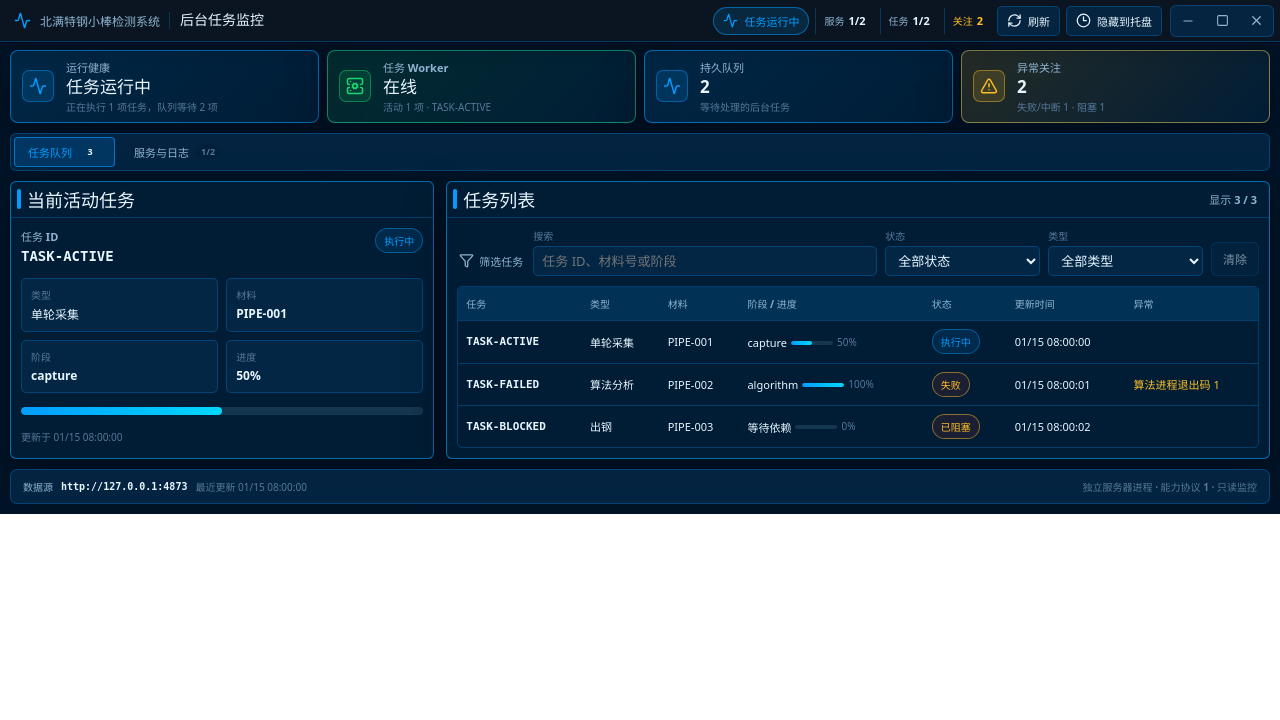
Scenario: BackgroundMonitorApp › renders live task status by default and keeps service controls in a dedicated view
Expected: the heading "后台任务监控" is shown, [169,12,264,29]
Expected: the text "服务 1/2" is shown, [815,8,874,34]
Select "失败" in the dropdown named "任务状态过滤" at (963, 260), box [885,246,1040,276]
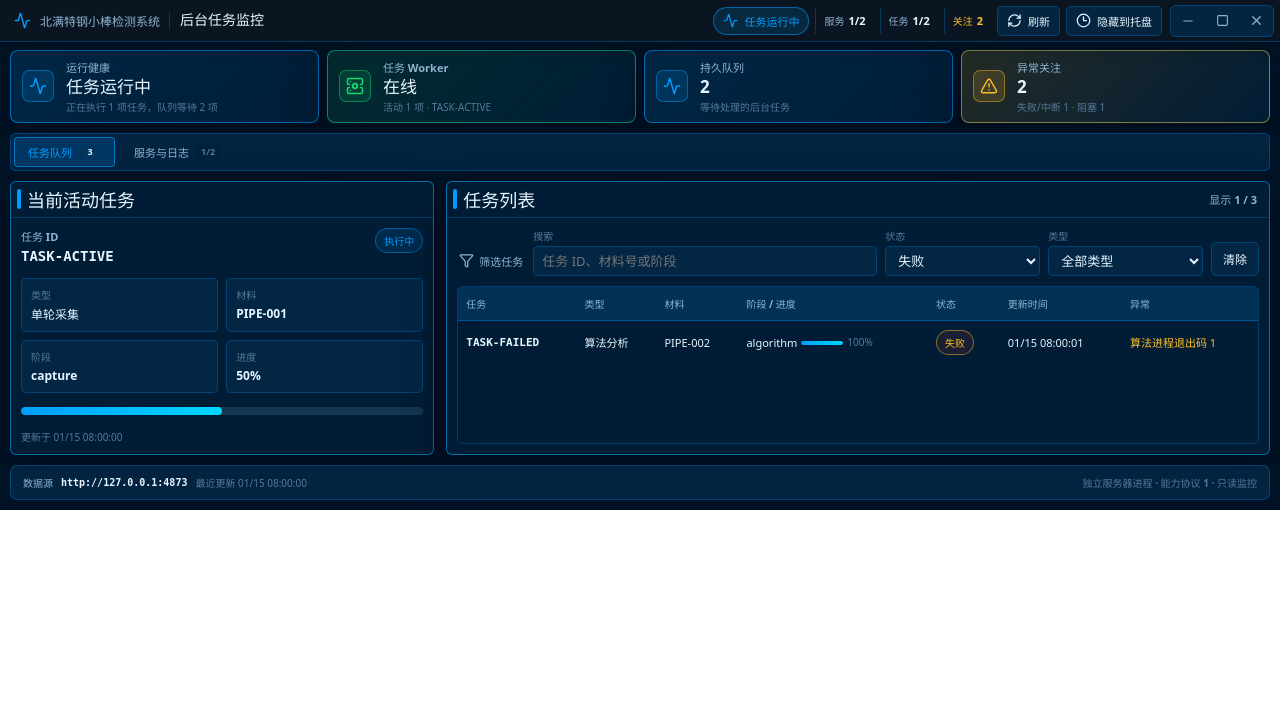
Expected: the table with test id "background-monitor-task-table" shows "TASK-FAILED", [466,336,539,348]
Now the row with test id "background-monitor-task-TASK-ACTIVE" is gone
Click the button "清除" at (1235, 258), box [1211,242,1259,276]
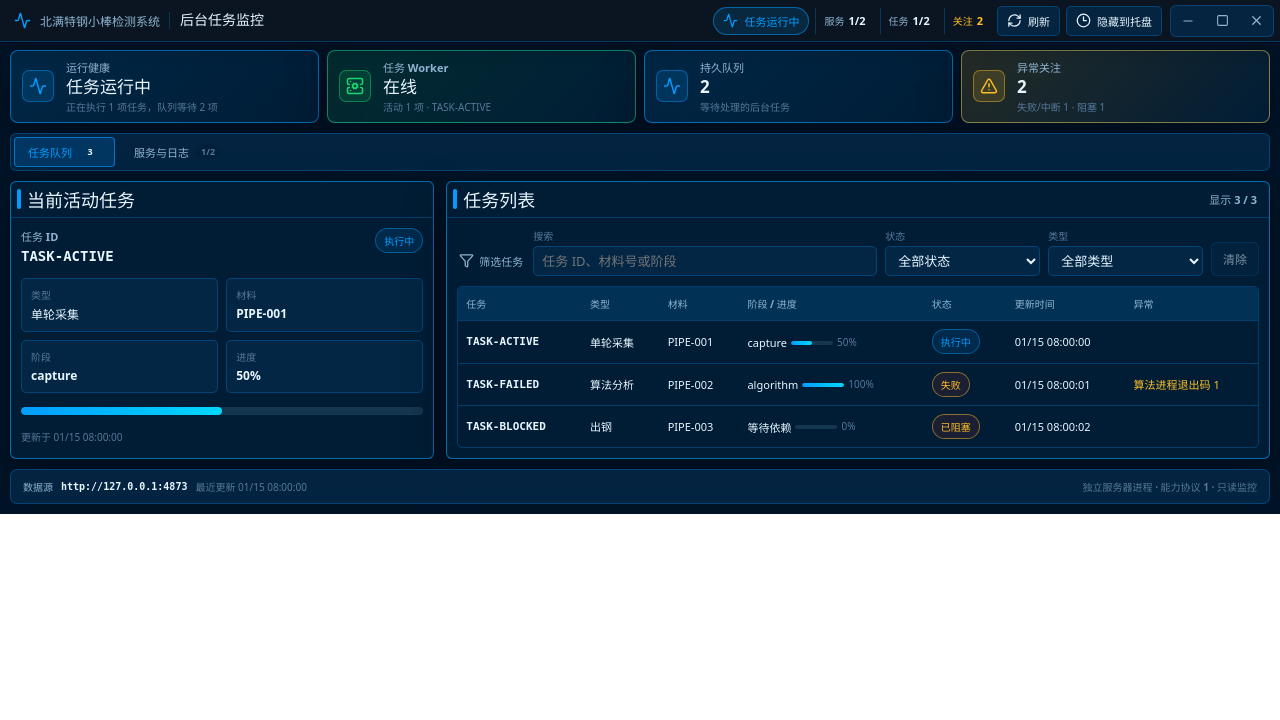
Now the row with test id "background-monitor-task-TASK-ACTIVE" is shown, box [458,321,1258,363]
Click the button "服务与日志 1/2" at (177, 152), box [120,136,234,166]
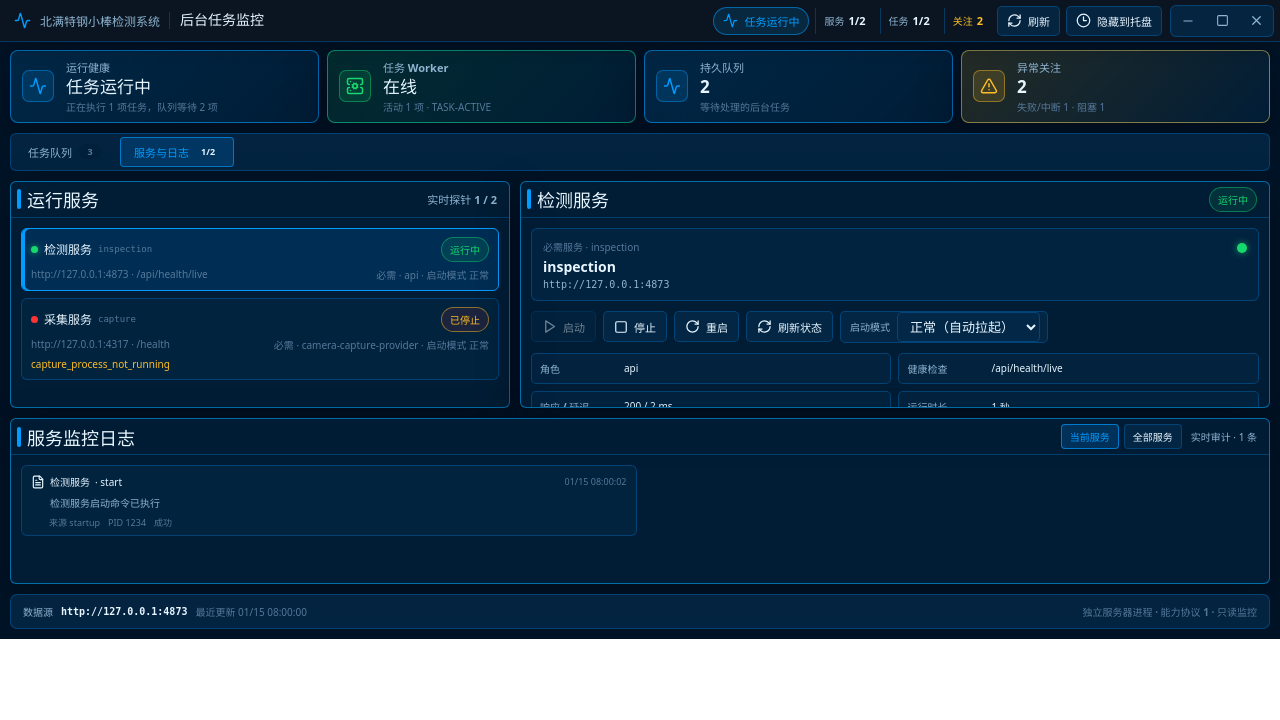
Now the text "实时探针 1 / 2" is shown, box [427,191,497,207]
Now the text "实时审计 · 1 条" is shown, box [1191,430,1257,444]
Now the button with test id "background-monitor-service-inspection" shows "检测服务", box [21,228,499,290]
Click the button with test id "background-monitor-service-capture" at (68, 320), box [21,298,499,380]
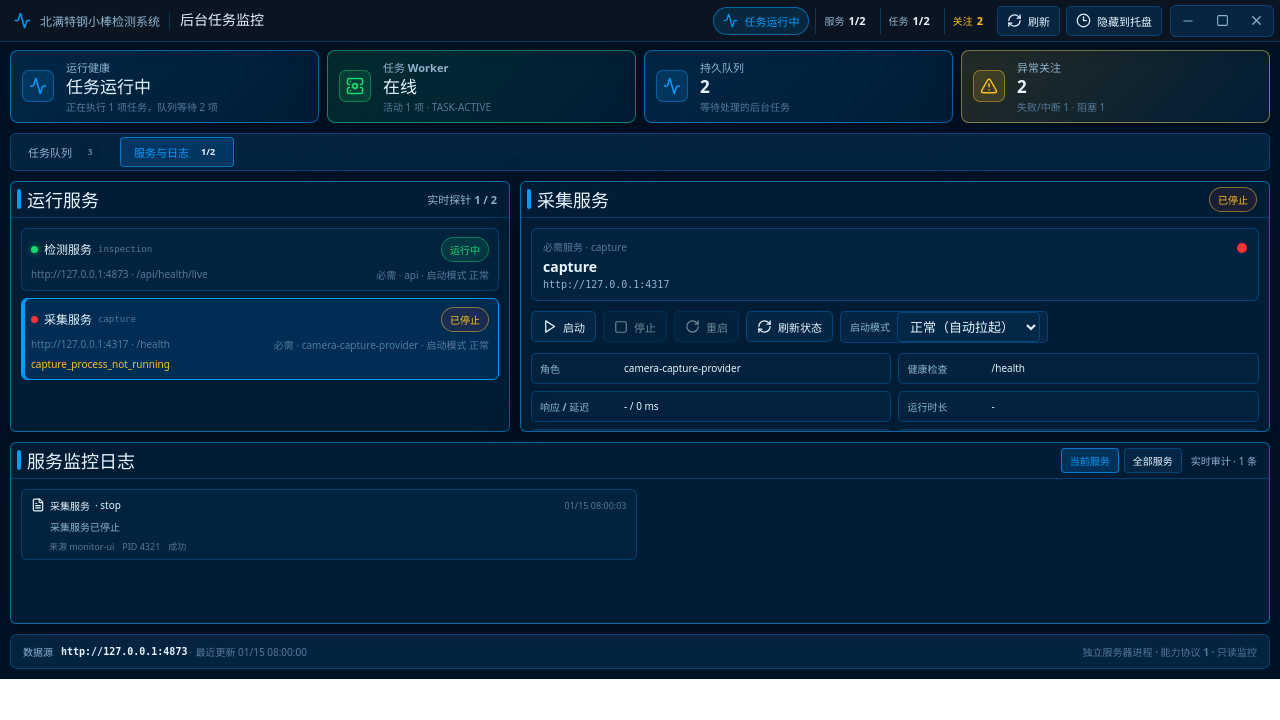
Now the element with test id "background-monitor-service-detail" shows "capture", box [591,240,627,254]
Now the element with test id "background-monitor-logs" shows "采集服务已停止", box [50,520,120,534]
Click the button "启动" at (564, 326), box [531,311,596,342]
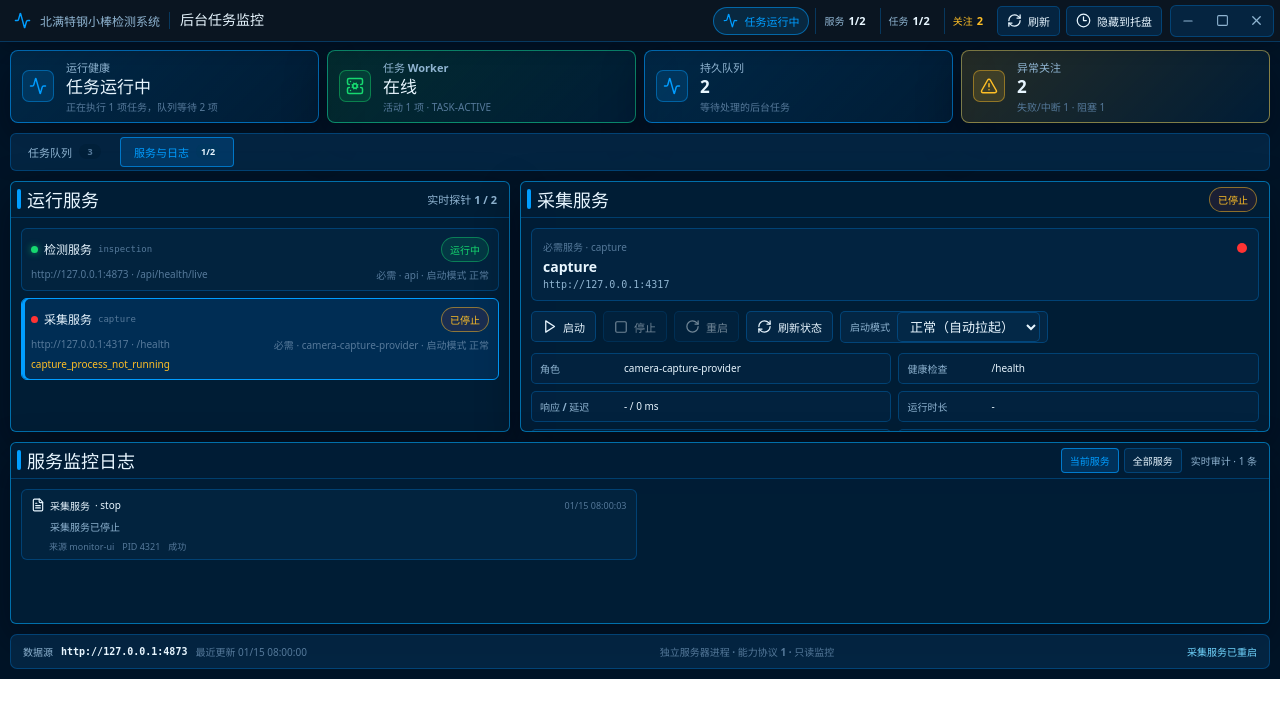
Select "手动" in the dropdown labelled "启动模式" at (968, 326), box [897,312,1040,342]
Click the button "全部服务" at (1153, 460), box [1124,448,1182,473]
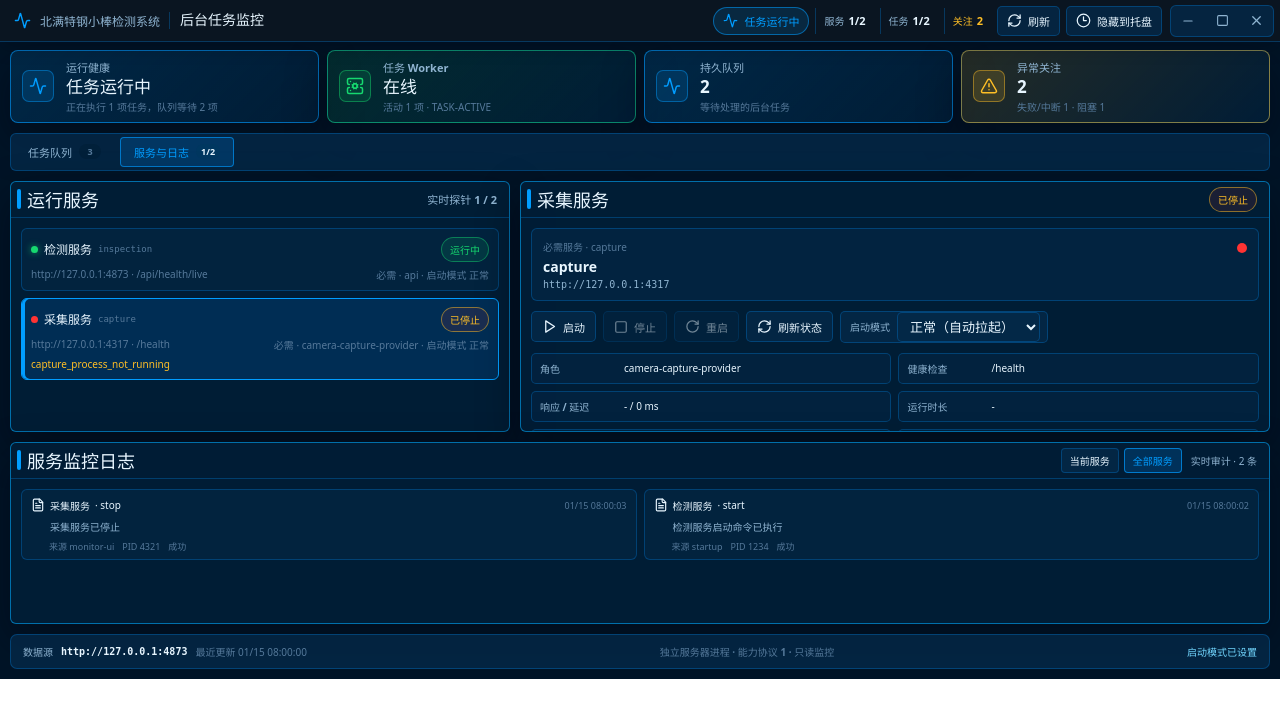
Expected: the heading "当前活动任务" is not shown
Now the element with test id "background-monitor-logs" shows "采集服务已停止", box [50,520,120,534]
Now the element with test id "background-monitor-logs" shows "检测服务启动命令已执行", box [672,520,782,534]
